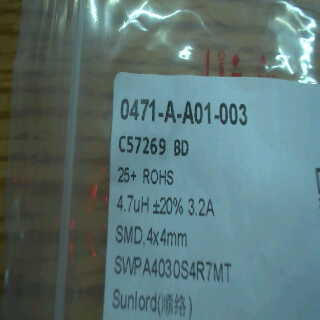4.7uH: (111, 194, 151, 217)
